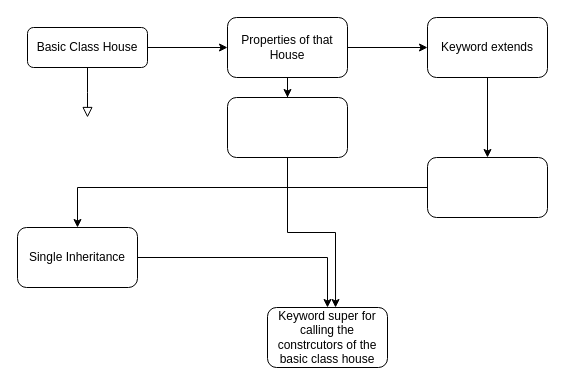
Some shapes in this 565 by 385 pixel diagram are drawn without their labels. The centre of each missing label's shape, as x and y in pixels:
Child Class extends House: the point at 487,187
Constrcutor for initializing the basic class: the point at 287,127
